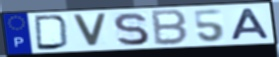5: (192, 8, 227, 44)
A: (230, 7, 272, 42)
B: (150, 8, 190, 47)
D: (32, 15, 72, 51)
S: (111, 11, 152, 47)
V: (70, 13, 109, 49)
